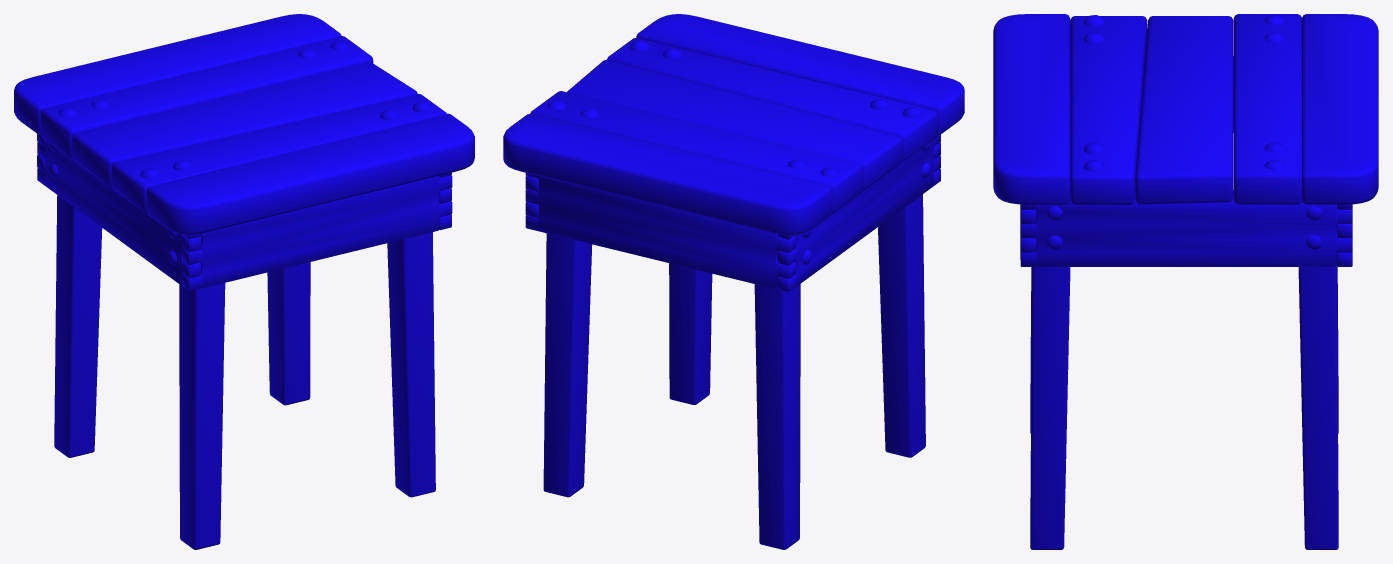
Rendered from Small_Chair.FBX.
3 views of the same model, side by side, from view 1: azimuth 30°, elevation 25°; view 2: azimuth 150°, elevation 25°; view 3: azimuth 270°, elevation 25° (orthographic). The views are drawn at different scales.
Parts seen in each view (by area): view 1: chair; view 2: chair; view 3: chair.
Part boxes in pixels (bbox=[...]): chair: bbox=[14, 14, 474, 549]; chair: bbox=[503, 14, 964, 549]; chair: bbox=[993, 14, 1378, 549].
Bounding box in the file's own units: 50.57 × 57.67 × 50.66.
